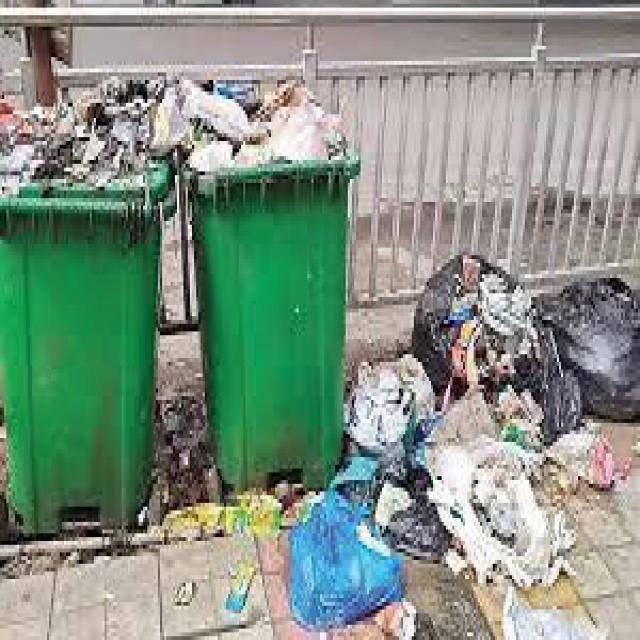garbage: (437, 271, 578, 537), (339, 366, 465, 590), (0, 99, 316, 168)
